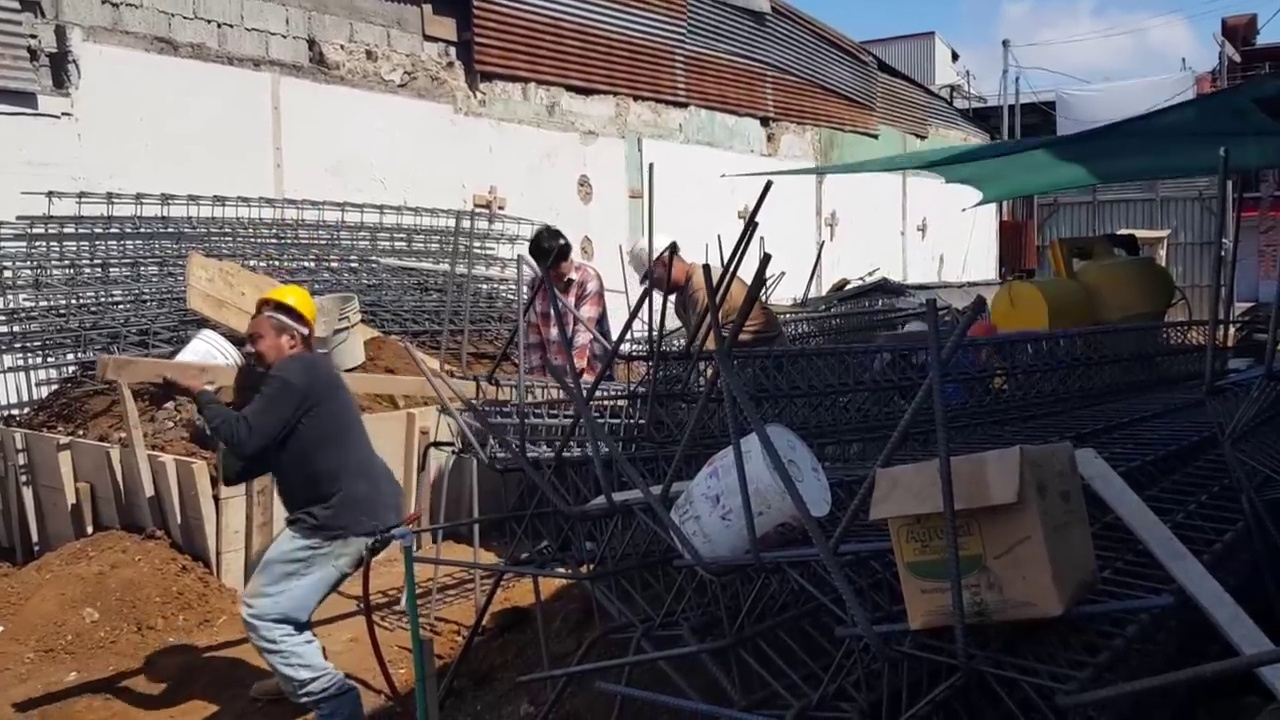helmet: (255, 282, 316, 332), (627, 233, 676, 285)
helmet-off: (519, 225, 567, 287)
helmet-on: (236, 286, 312, 372), (626, 229, 696, 297)
person: (168, 264, 421, 720), (627, 232, 794, 342), (520, 221, 612, 389)
